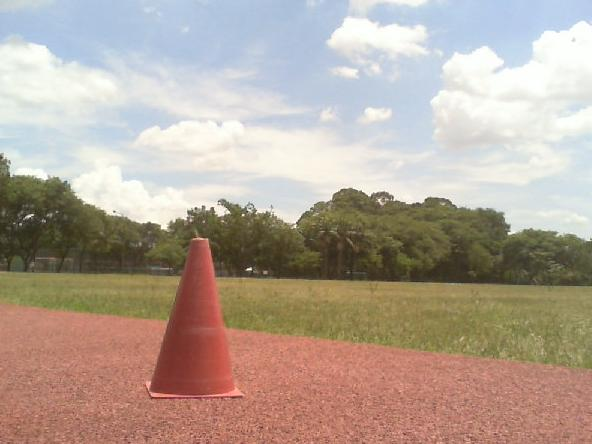0 cone: (145, 238, 246, 398)
